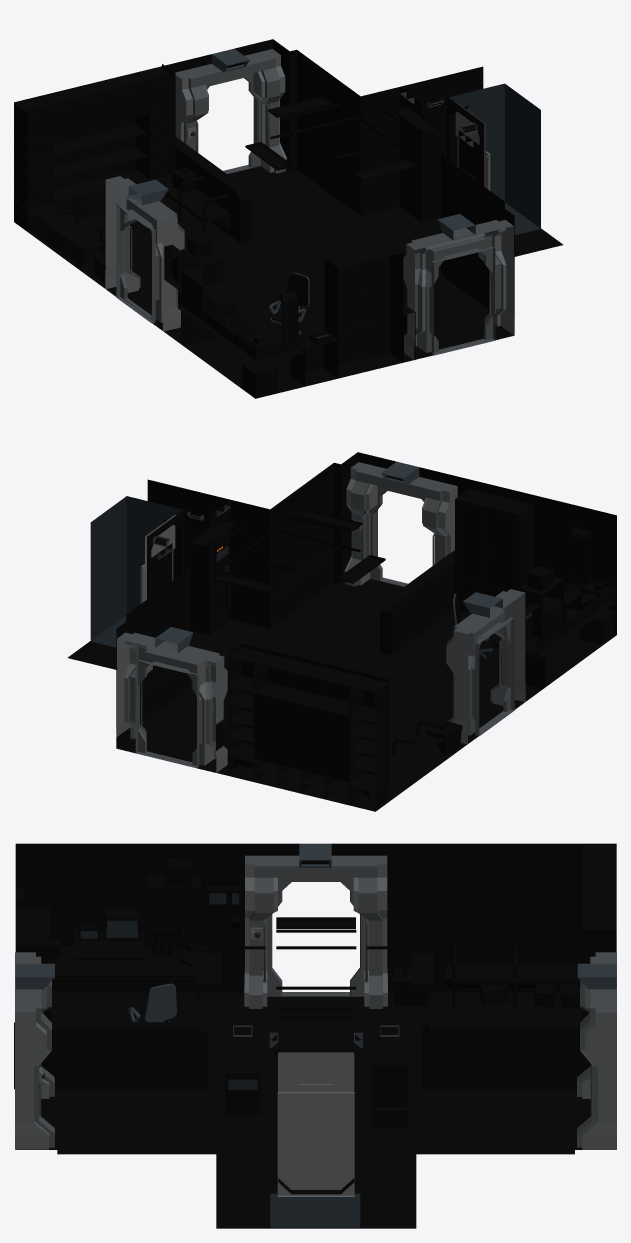
File: spawn.fbx
3 views of the same model, one above another, from view 1: azimuth 30°, elevation 25°; view 2: azimuth 150°, elevation 25°; view 3: azimuth 270°, elevation 25° (orthographic). The views are drawn at different scales.
Parts seen in each view (by area): view 1: Main.015, A1, skameyki.001, skameyki.003, skameyki.015, skameyki, skameyki.002, skameyki.004, skameyki.006, skameyki.005, skameyki.008, kreslo.003 (+9 smaller); view 2: Main.015, skameyki.001, A1, skameyki.003, skameyki.015, skameyki, skameyki.002, skameyki.008, skameyki.005, skameyki.011, Cube.039, Cube.336 (+7 smaller); view 3: Main.015, A1, skameyki.015, skameyki, skameyki.001, skameyki.002, skameyki.006, pod knigi.003, skameyki.003, skameyki.005, skameyki.014, skameyki.012 (+10 smaller).
Part boxes in pixels (x1,y1,x2,y2): Main.015: (14,39,563,398); A1: (105,49,514,359); skameyki.001: (14,64,175,231); skameyki.003: (324,242,403,377); skameyki.015: (400,87,490,222); skameyki: (178,271,304,364); skameyki.002: (28,174,230,268); skameyki.004: (291,330,338,386); skameyki.006: (203,291,257,342); skameyki.005: (181,248,223,286); skameyki.008: (242,362,277,397); kreslo.003: (269,272,309,334); Main.015: (67,452,616,811); skameyki.001: (227,643,389,811); A1: (116,462,525,772); skameyki.003: (455,489,533,612); skameyki.015: (140,500,230,635); skameyki: (492,527,616,689); skameyki.002: (229,720,444,804); skameyki.008: (579,610,614,644); skameyki.005: (521,577,563,615); skameyki.011: (426,720,462,754); Cube.039: (463,592,502,617); Cube.336: (212,571,277,593); Main.015: (14,843,616,1228); A1: (15,855,616,1149); skameyki.015: (225,1025,407,1196); skameyki: (15,887,208,1012); skameyki.001: (582,845,616,1019); skameyki.002: (445,943,579,1006); skameyki.006: (75,909,144,960); pod knigi.003: (125,923,238,1043); skameyki.003: (15,906,50,1020); skameyki.005: (148,874,200,914); skameyki.014: (206,886,242,931); skameyki.012: (479,984,580,1007).
Bounding box in the file's own units: 9.31 × 2.85 × 10.03.
